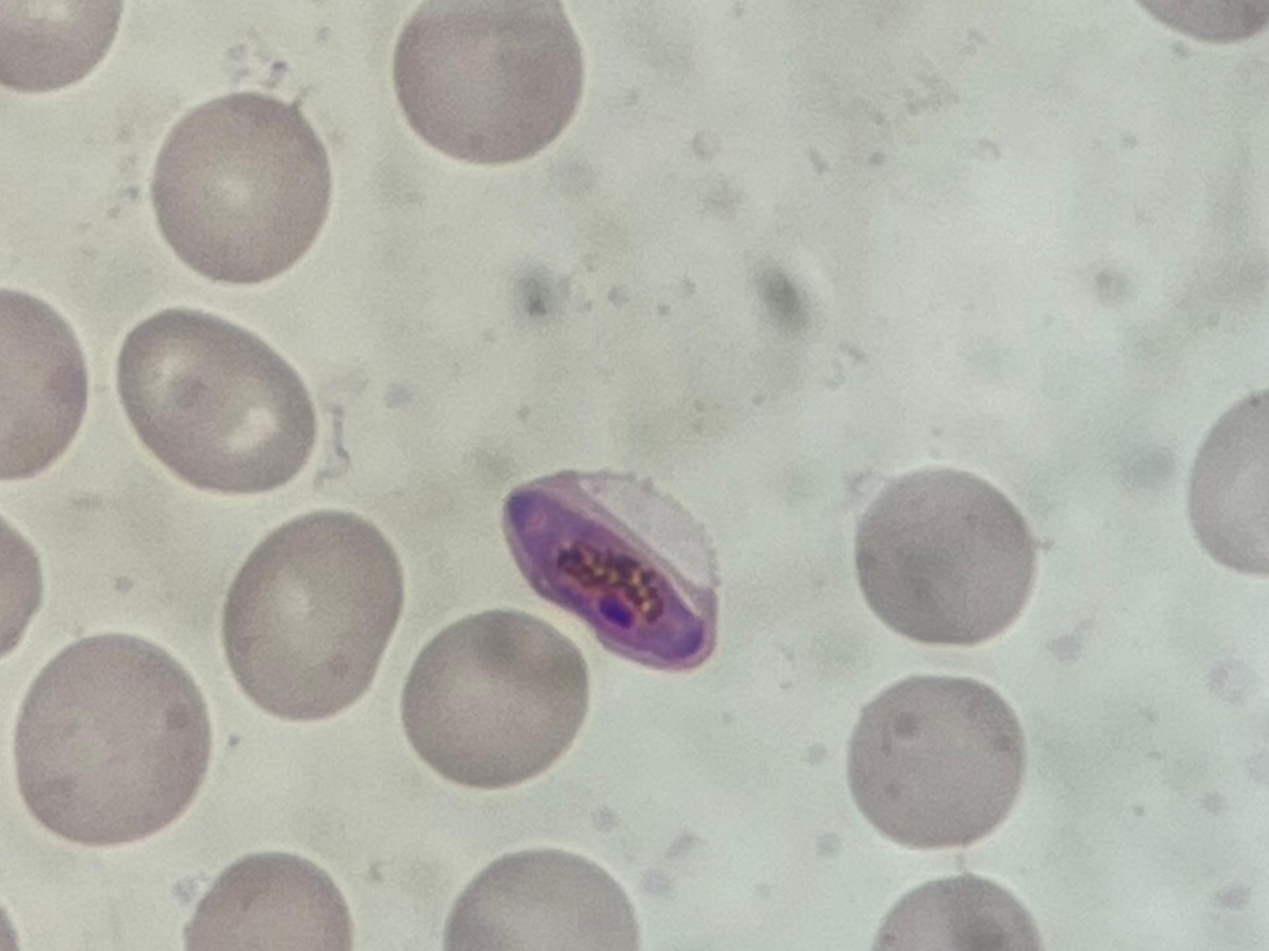Infected: (499, 465, 722, 672)
Uninfected: (15, 635, 213, 849), (221, 513, 406, 722), (116, 306, 316, 494), (152, 88, 332, 287), (403, 608, 586, 792), (853, 465, 1034, 648), (390, 0, 584, 165), (846, 674, 1026, 851), (443, 848, 640, 951), (178, 851, 356, 951), (0, 291, 86, 480)
